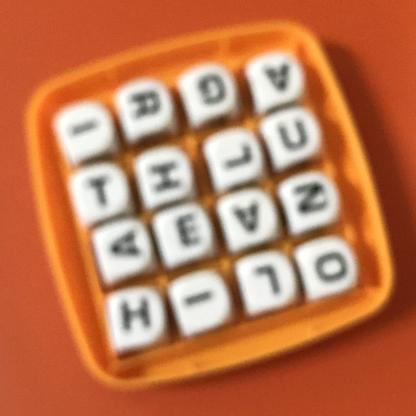a: (97, 223, 149, 274), (257, 51, 307, 97), (228, 195, 273, 241)
e: (171, 210, 207, 258)
g: (189, 68, 235, 110)
h: (143, 151, 191, 203), (113, 291, 158, 340)
i: (177, 275, 225, 323), (56, 104, 102, 154)
l: (244, 259, 295, 312), (213, 135, 262, 184)
n: (283, 173, 340, 226)
o: (305, 238, 358, 288)
r: (125, 80, 167, 130)
t: (77, 171, 129, 217)
u: (270, 110, 321, 159)
